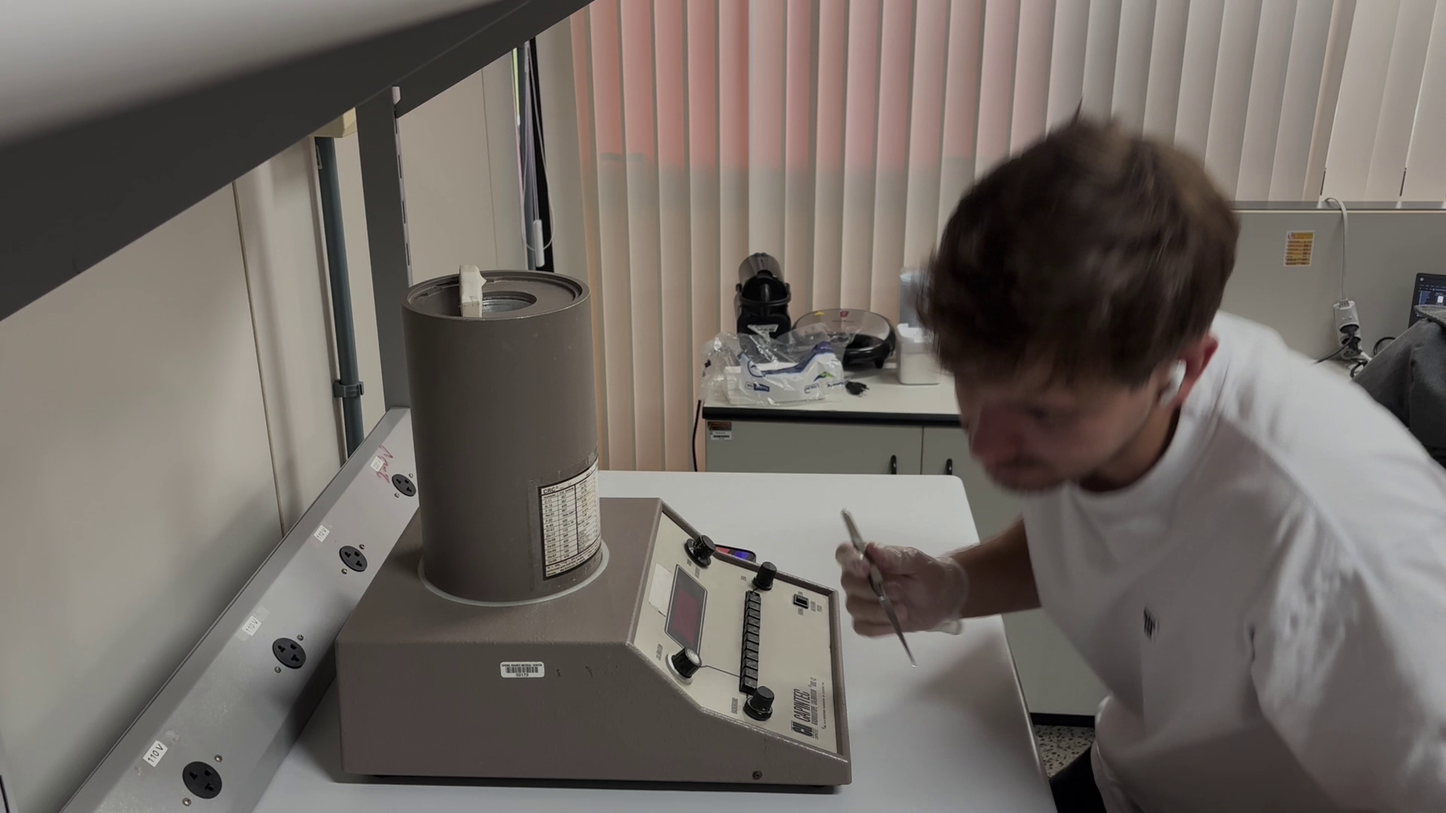Ativimetro: (398, 267, 609, 606)
Com_Luva: (834, 537, 966, 637)
